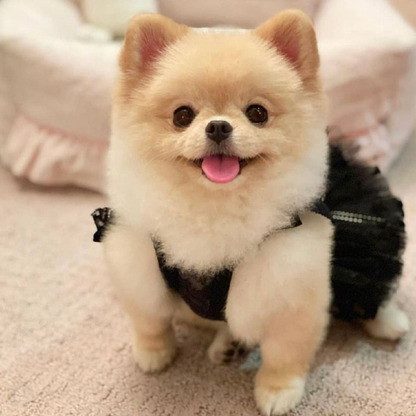Pomeranian: (93, 12, 386, 402)
